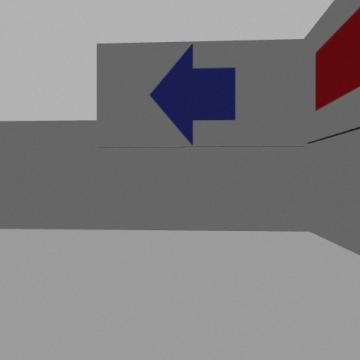blue_left: (150, 44, 235, 144)
